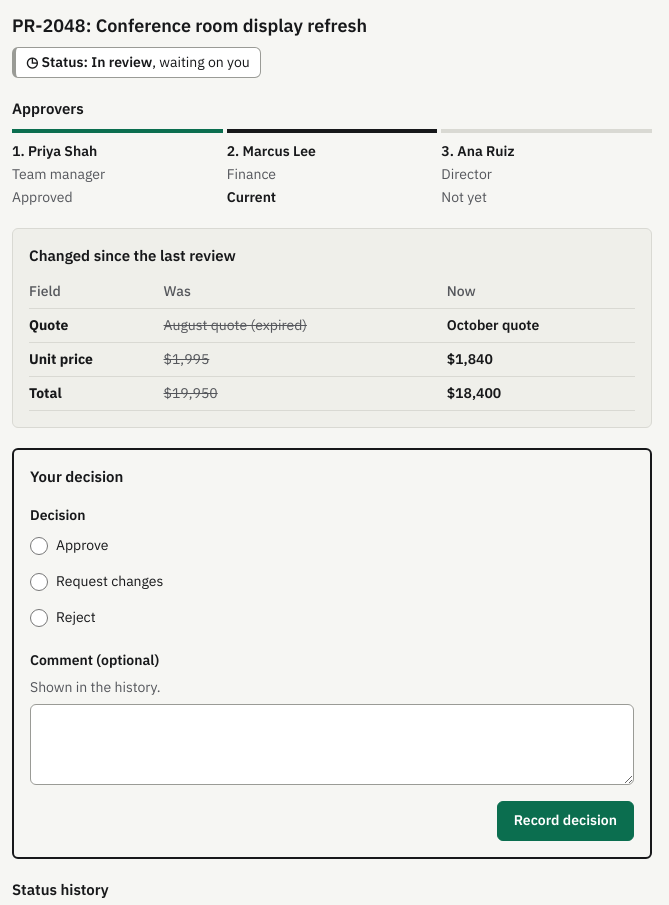
Scenario: ApprovalWorkflow › requires a decision before submitting
Click the button "Record decision". click: click(565, 820)
box: [497,800,634,840]
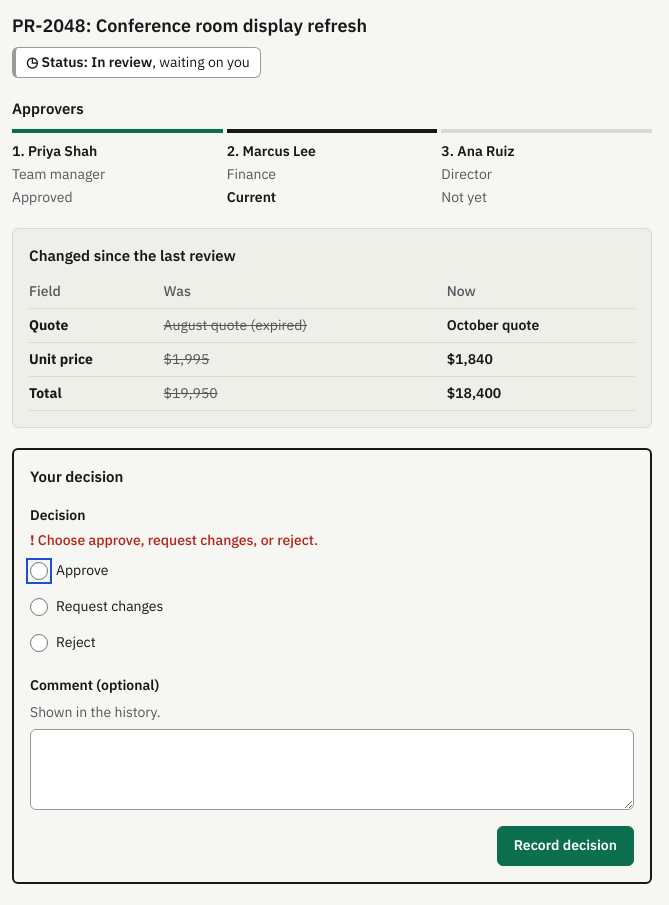
Check: the text "Choose approve, request changes, or reject." is shown, box [38,530,318,548]
